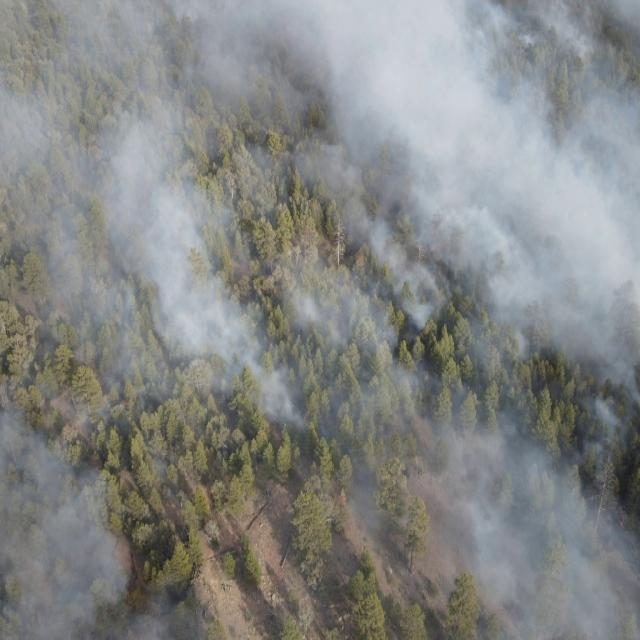fire: (617, 518, 628, 532), (122, 397, 132, 411), (354, 251, 364, 261)
smoke: (0, 0, 640, 460), (319, 457, 640, 640), (0, 457, 182, 640)
